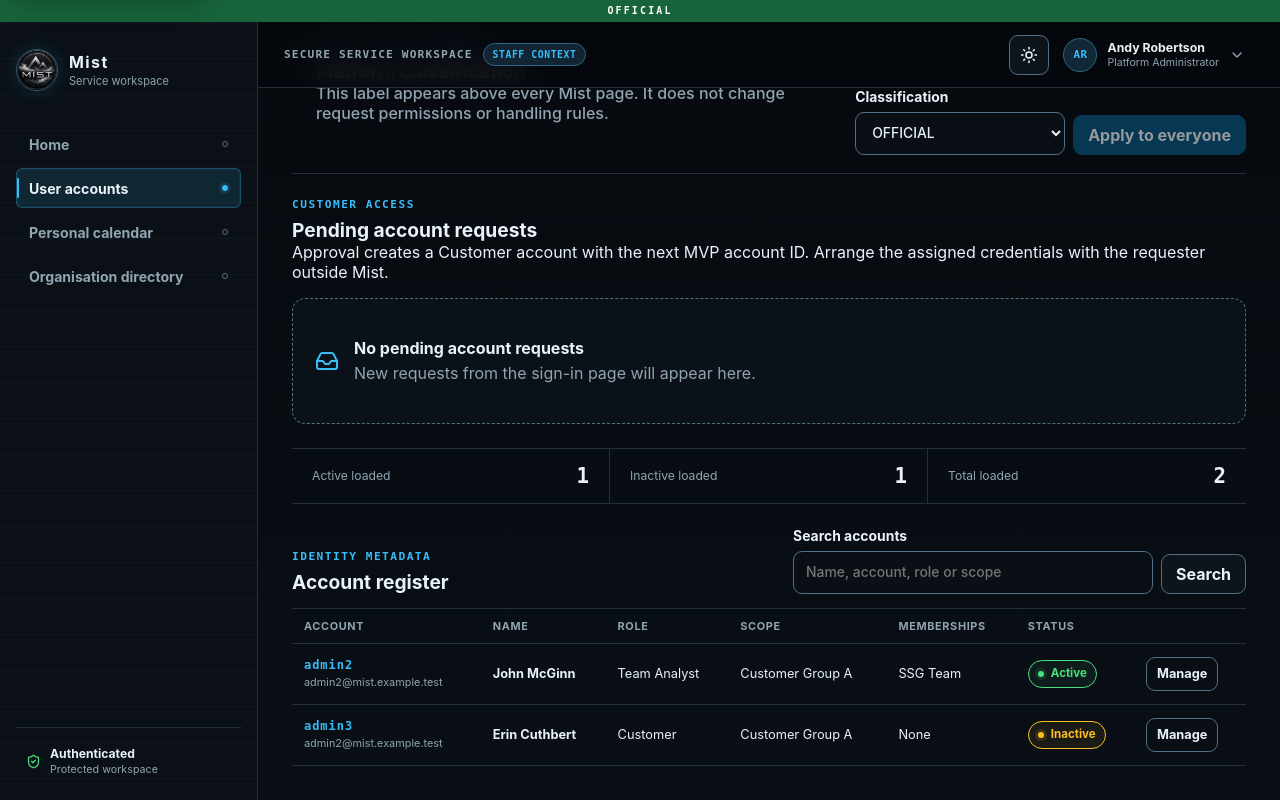
platform administrator user management › lists, searches and clears account metadata without request content
(page scrolled)
Expected: the link with aria-label "Manage John McGinn" is shown, [1146, 657, 1218, 691]
Expected: the text "SSG Team" is shown, [886, 643, 1016, 704]
In the field labelled "Search accounts": x=973, y=572 [793, 551, 1153, 594], type "nobody"
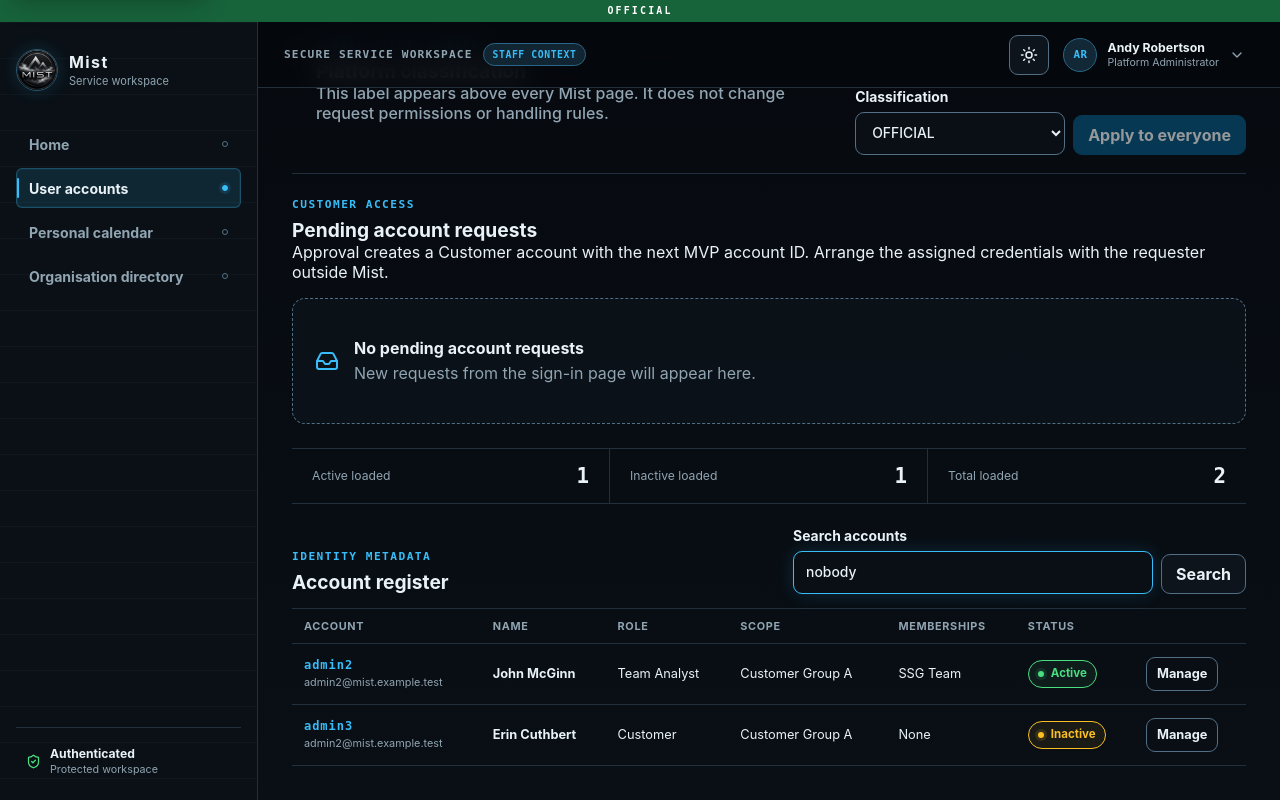
Click the button "Search": x=1204, y=574 [1161, 554, 1246, 594]
(page scrolled)
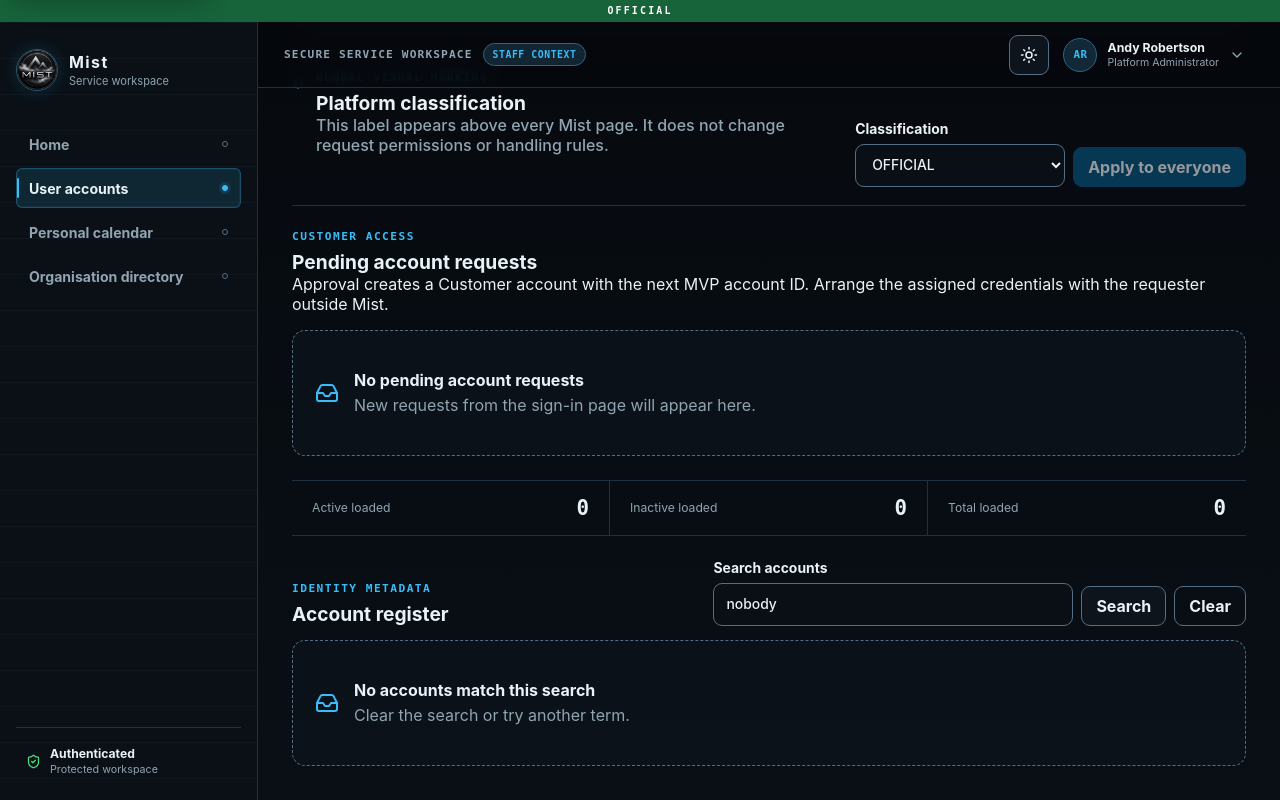
Expected: the heading "No accounts match this search" is shown, [354, 680, 630, 700]
Click the button "Clear": x=1210, y=606 [1174, 586, 1246, 626]
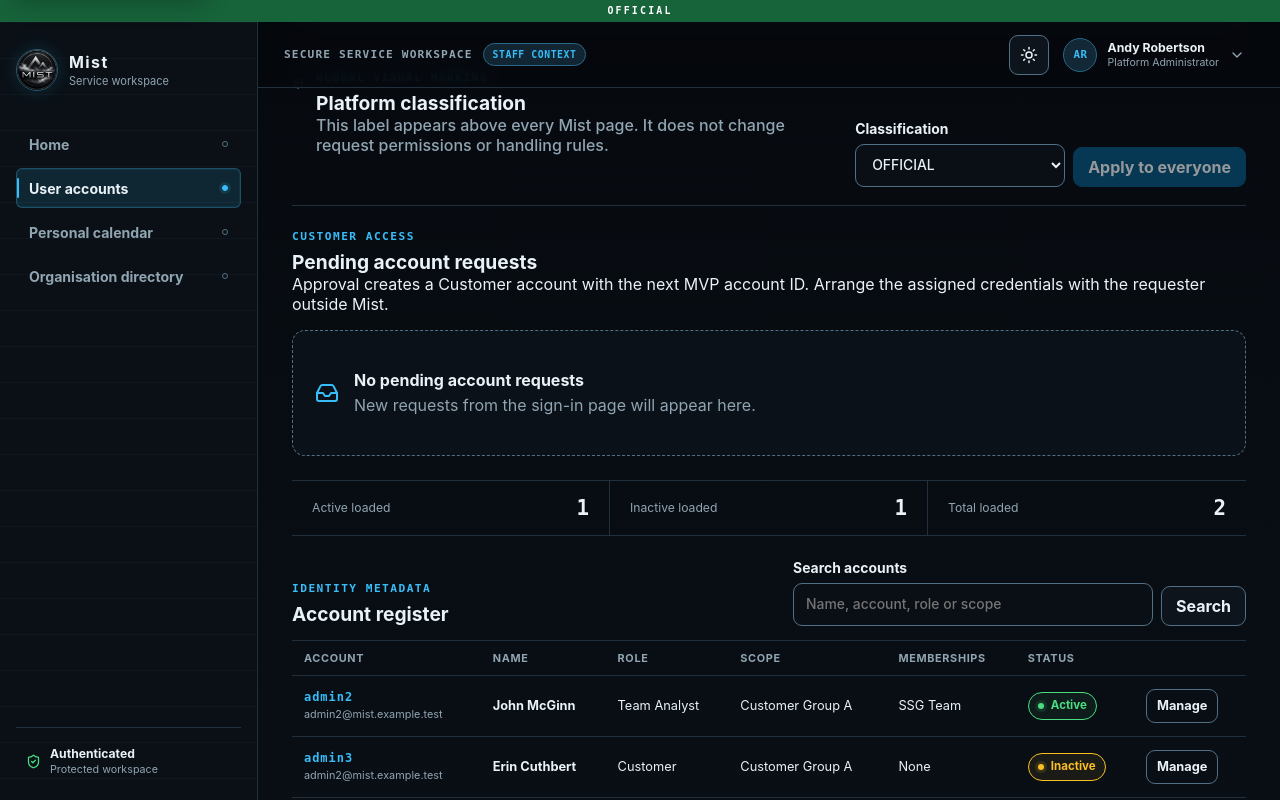
Expected: the link with aria-label "Manage John McGinn" is shown, [1146, 689, 1218, 723]
